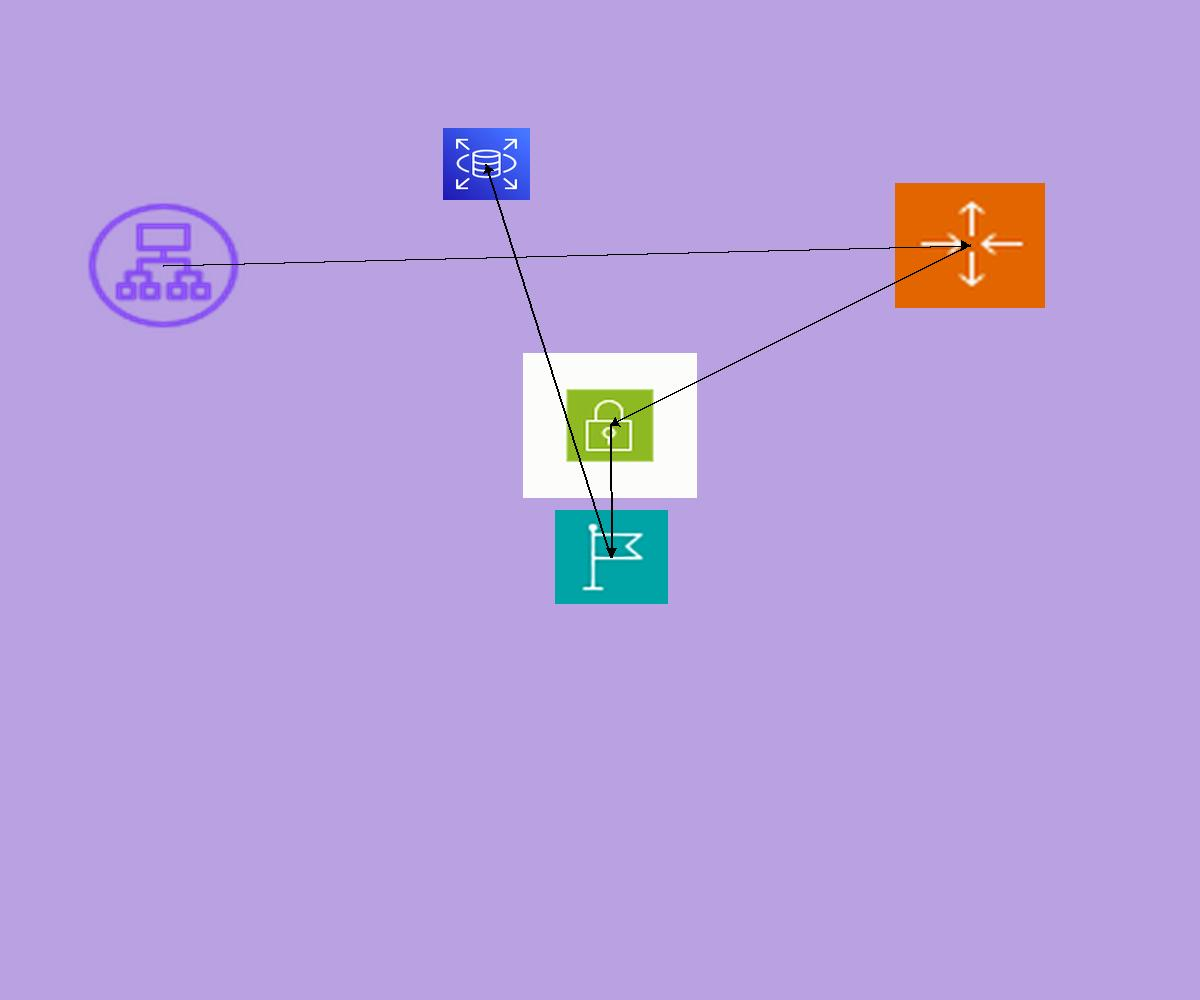AWS-Public-subnet: (523, 353, 697, 498)
AWS-RDS: (443, 128, 530, 200)
AWS-Region: (555, 510, 668, 604)
AWS-Res_Elastic-Load-Balancing_Application-Load-Balancer: (82, 198, 245, 333)
AWS-Scaling-group: (895, 183, 1045, 308)
